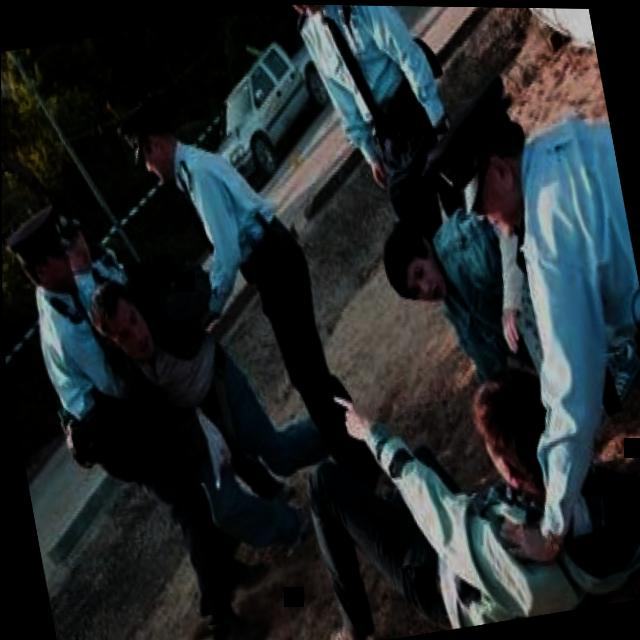Fall-Detected: (265, 327, 592, 640)
